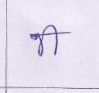i_matra: (36, 24, 55, 56)
